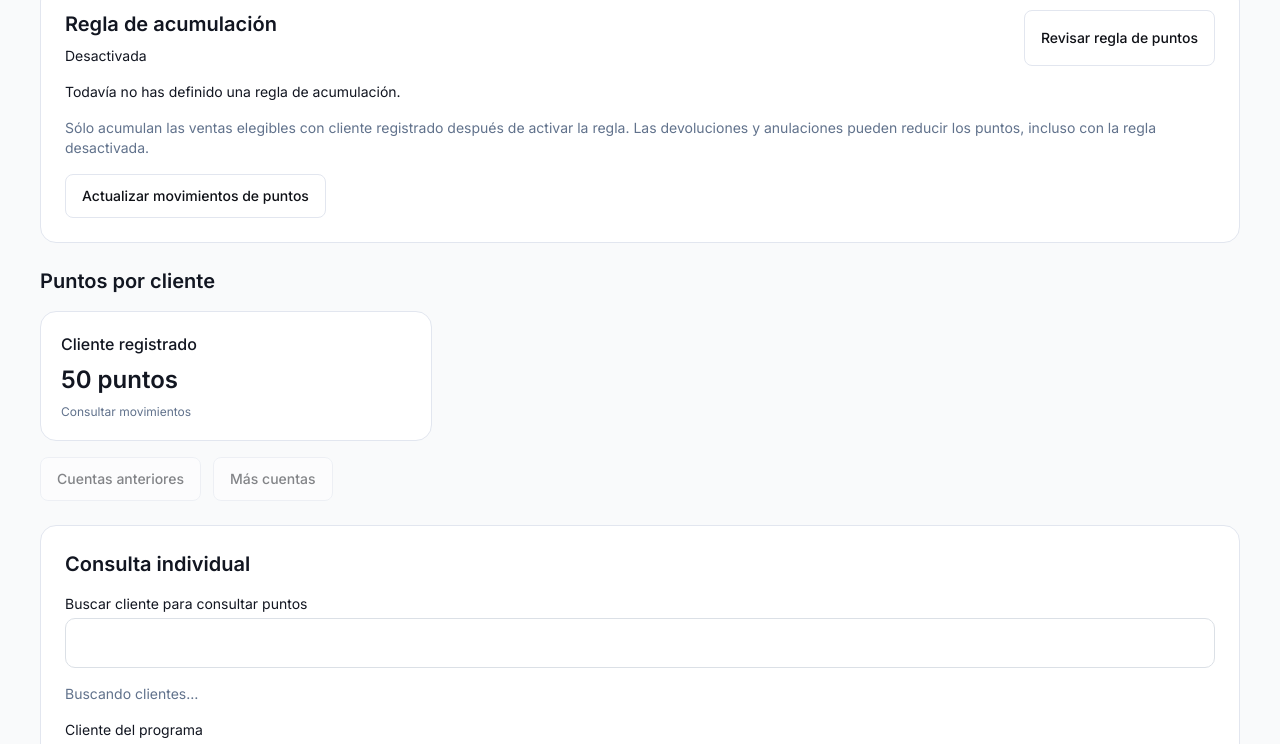
Test: shows a negative balance honestly and disables further debits
(page scrolled)
Click the button "Cliente registrado 50 puntos Consultar movimientos".
click(129, 344)  # box x1=40 y1=311 x2=432 y2=441
(page scrolled)
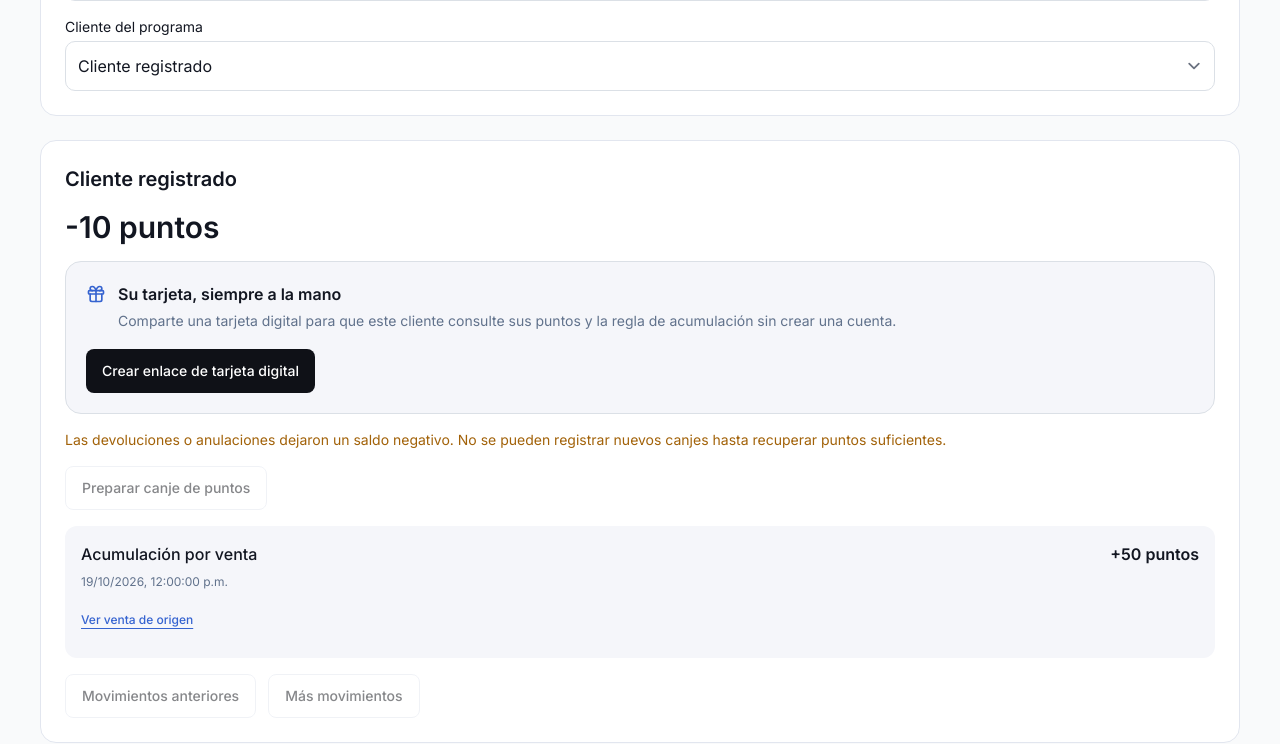
Expected: the text "-10 puntos" is shown, x1=65 y1=209 x2=220 y2=245
Expected: the button "Preparar canje de puntos" is disabled, x1=65 y1=466 x2=267 y2=510
